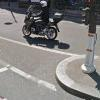Motorcycle: (18, 0, 67, 46)
